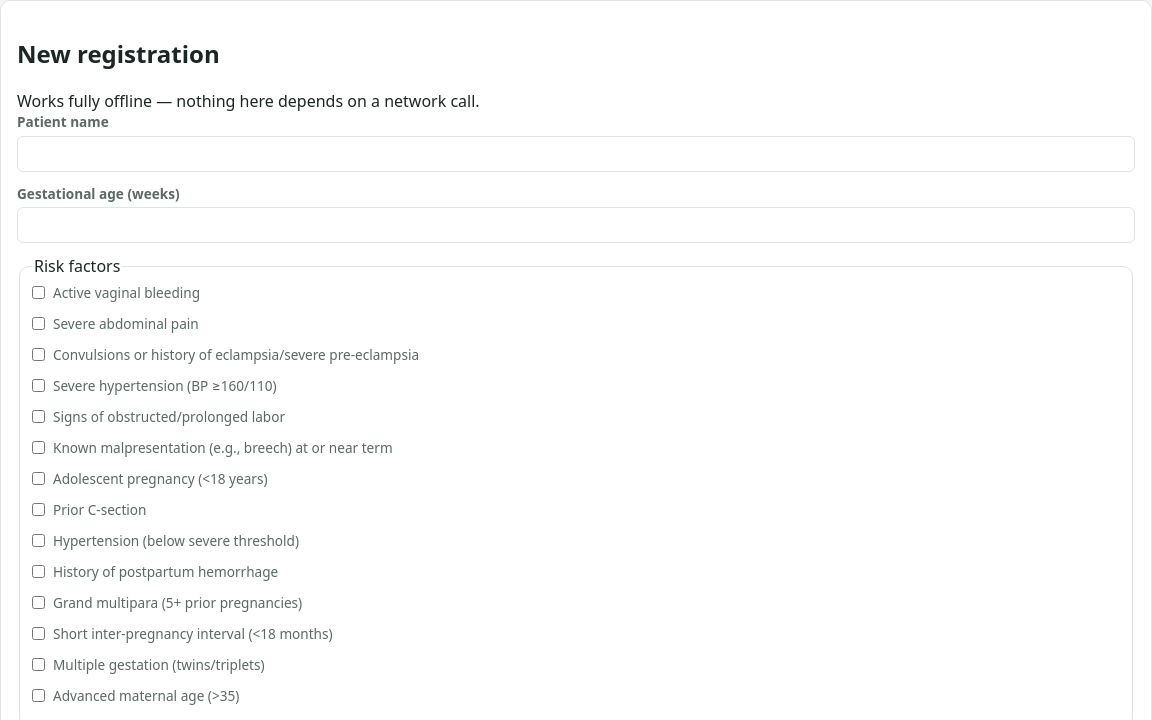
Test case: RegistrationForm › submitting with no risk factors shows Low risk
Step 1. Type "Chidinma" into the field labelled "Patient name" → (576, 154), box [17,136,1135,172]
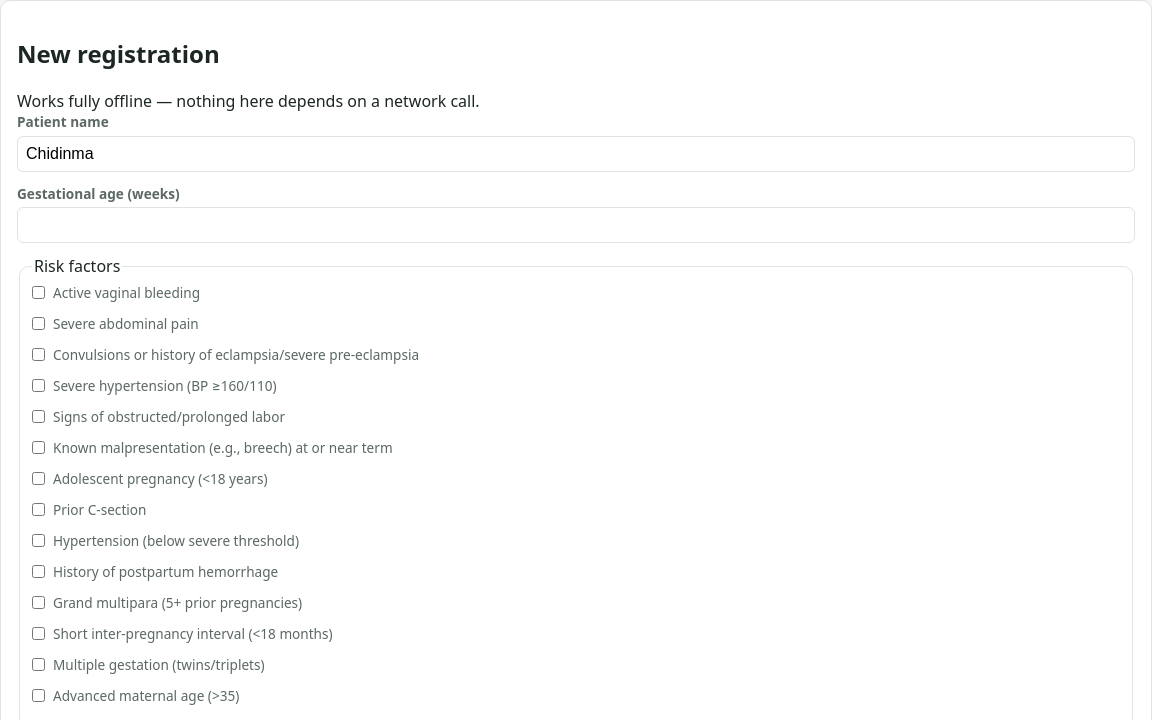
Step 2. Type "12" into the number field labelled "Gestational age (weeks)" → (576, 225), box [17,207,1135,243]
(page scrolled)
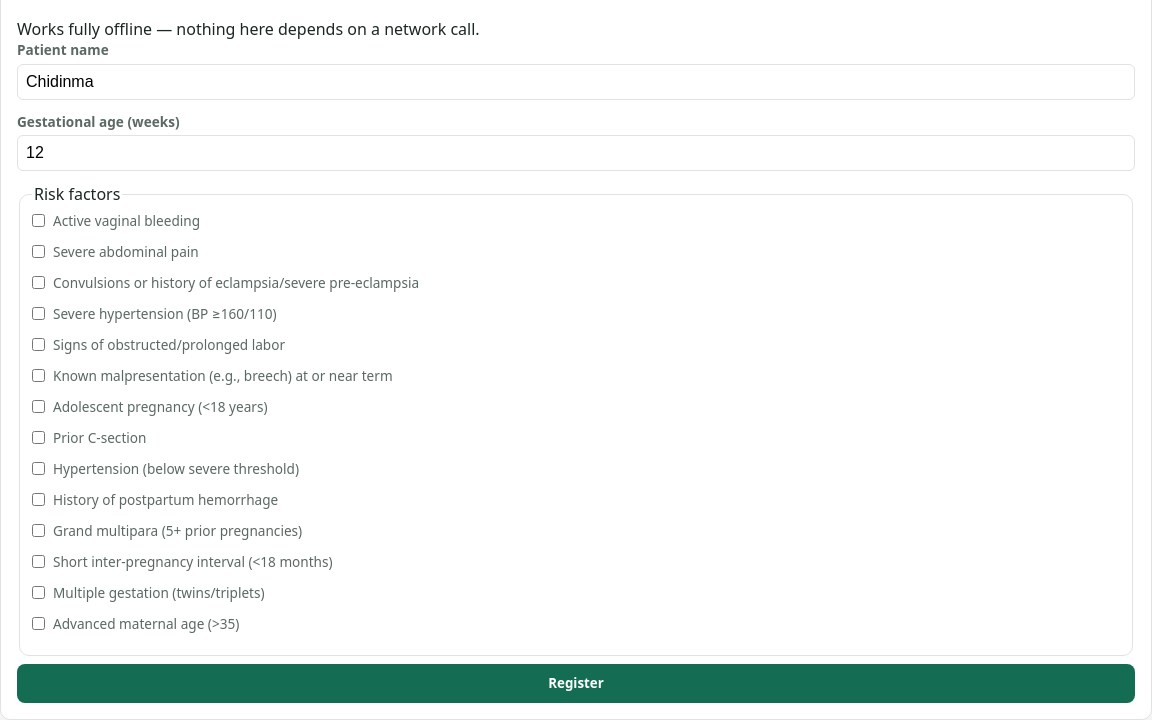
Step 3. Click the button "Register" → (576, 683), box [17,664,1135,703]
(page scrolled)
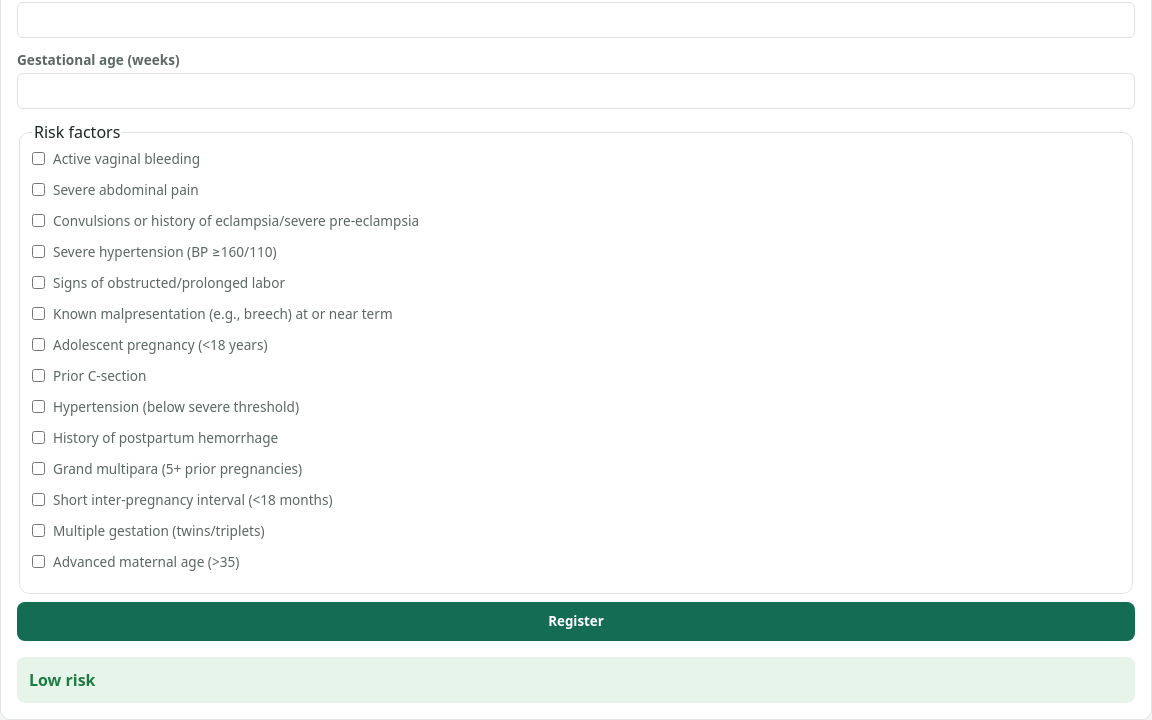
Check: the text "Low risk" is shown, box [29,669,96,691]
